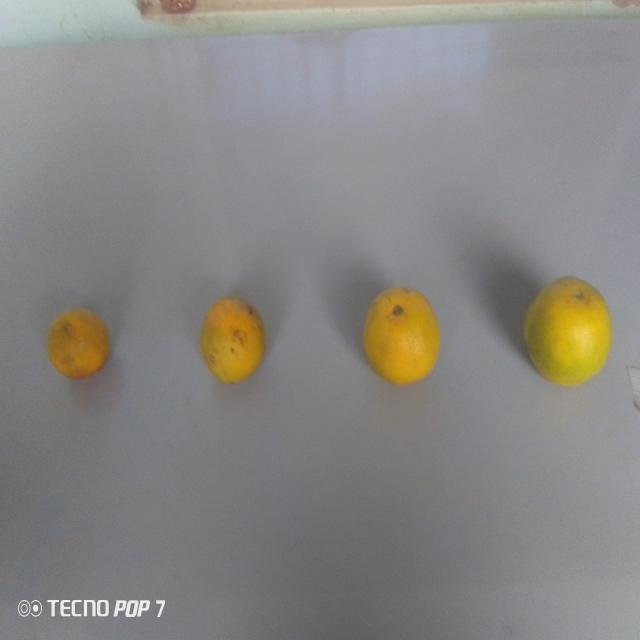Ripe orange: (518, 266, 614, 394), (360, 278, 442, 391), (198, 288, 267, 392), (37, 302, 115, 387)
